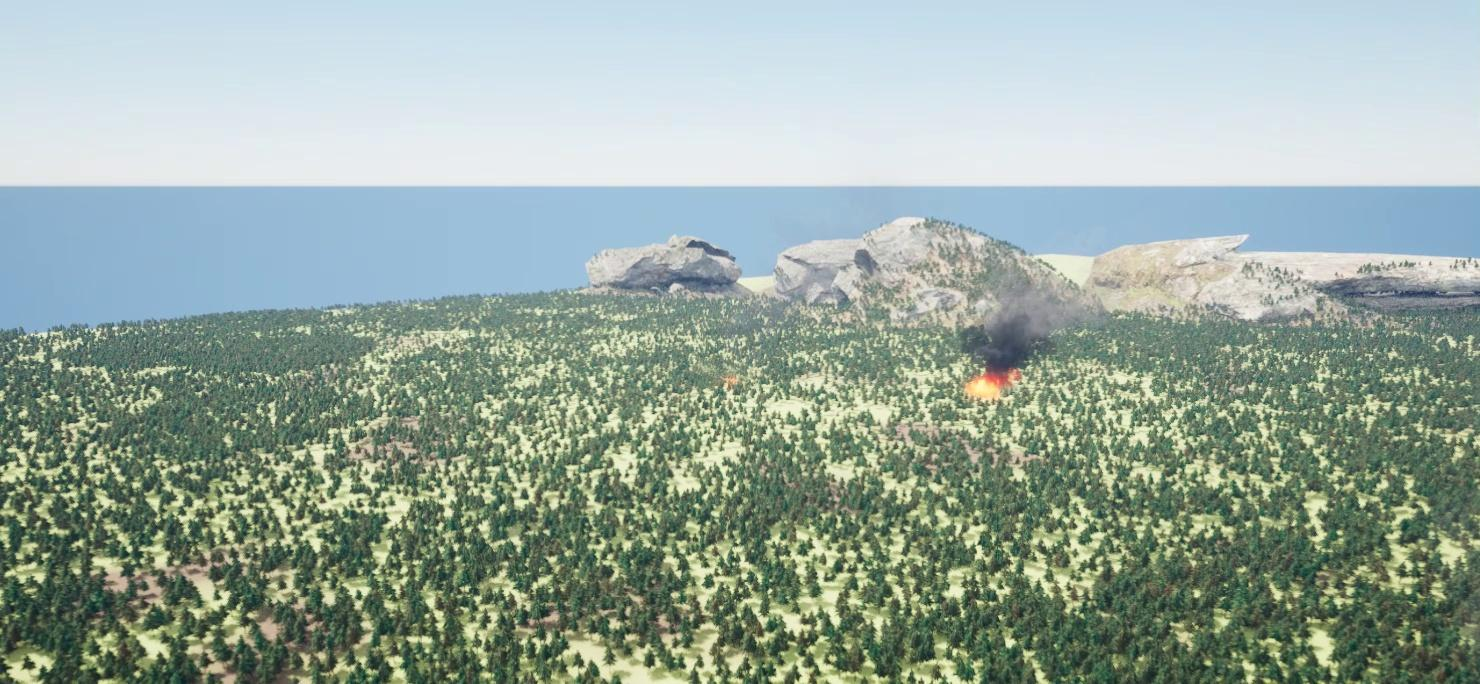fire: (963, 370, 1024, 395)
smoke: (962, 285, 1100, 367)
